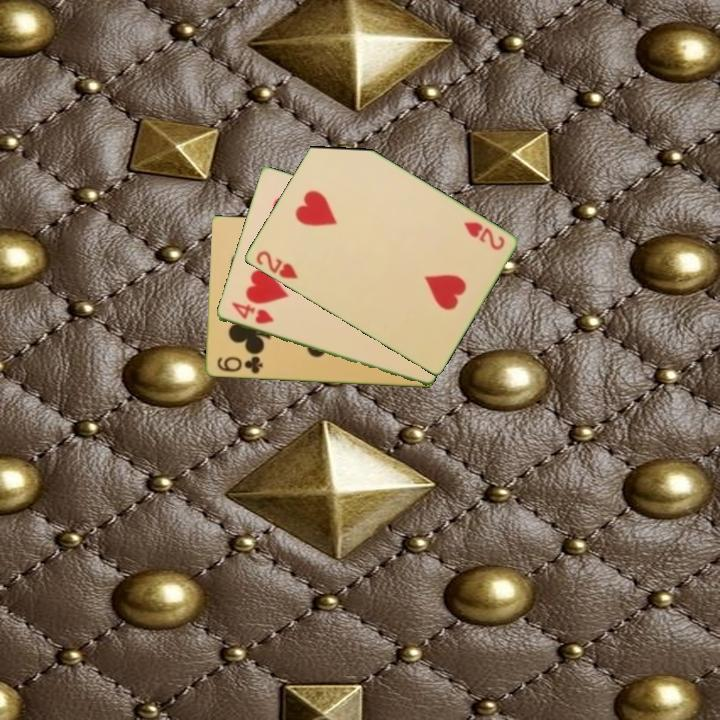2h: (252, 247, 300, 282), (460, 218, 507, 253)
4h: (227, 298, 276, 327)
6c: (213, 353, 265, 377)
